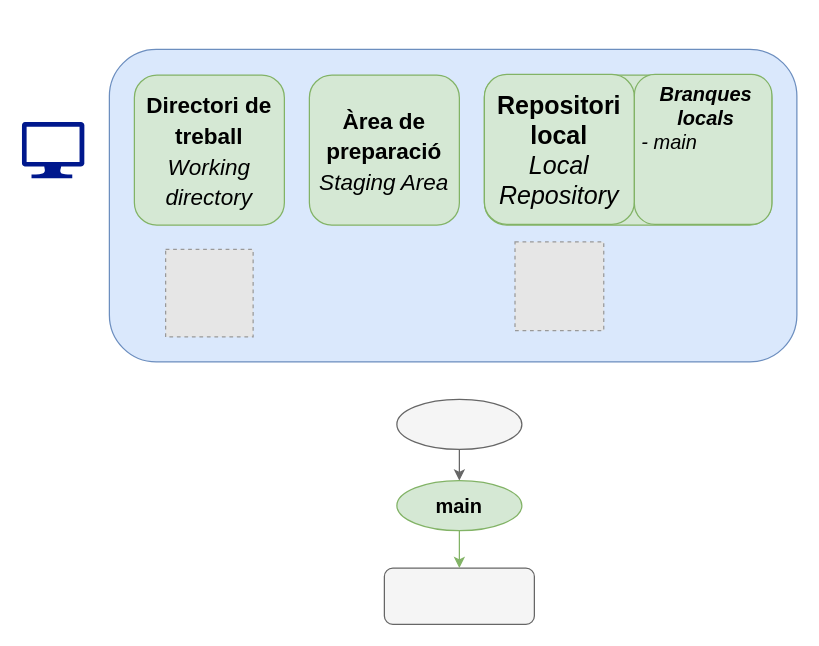
This 819x646 diagram has some shape labels left out. Grey dashed boxes stand in for pictures. Each missing label, with the box of its shape:
commit 0b1b3b4: (383, 567, 534, 624)
HEAD: (396, 398, 522, 449)
Local - Entorn de desenvolupament: (108, 48, 797, 362)
